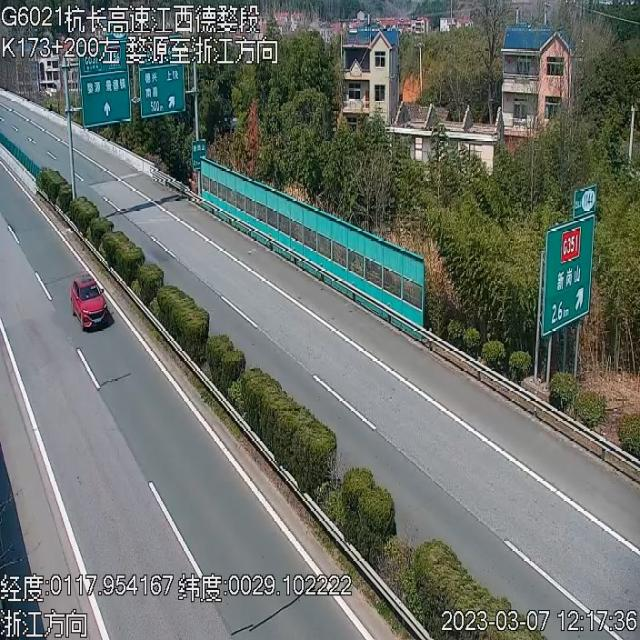point: (1, 86, 73, 174)
